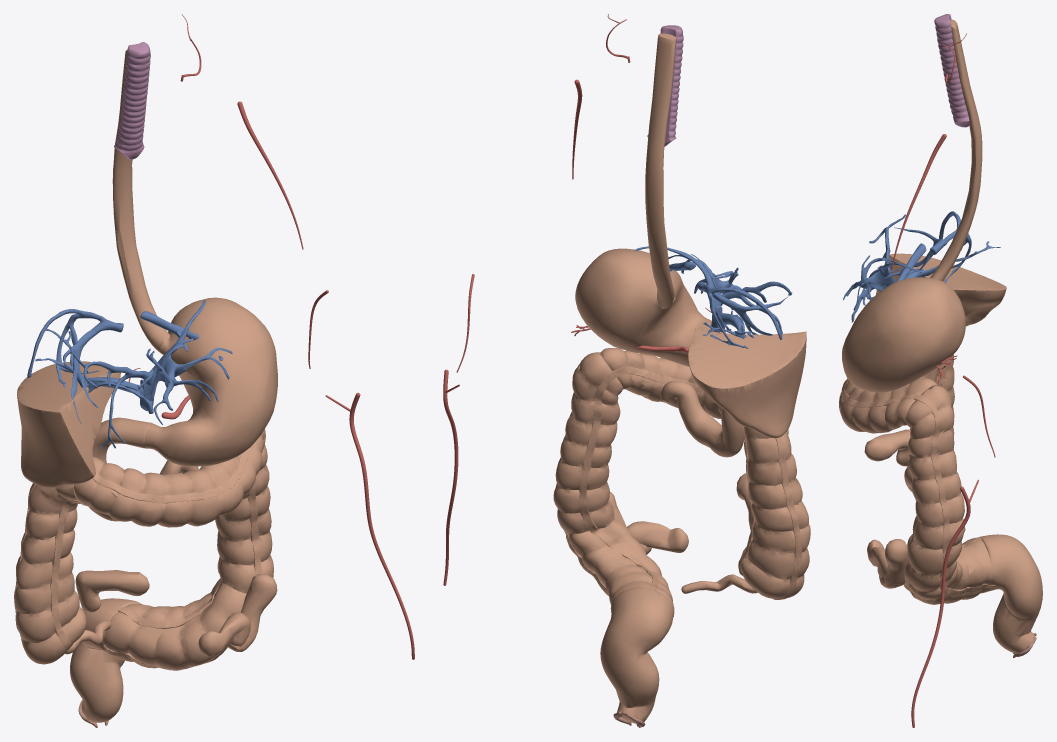
File: other-3.glb
3 views of the same model, side by side, from view 1: azimuth 30°, elevation 25°; view 2: azimuth 150°, elevation 25°; view 3: azimuth 270°, elevation 25° (orthographic). The views are drawn at different scales.
Parts seen in each view (by area): view 1: FJ2564, FJ2567, FJ2409, FJ2566, FJ2572, FJ2571, FJ2563, FJ2404, FJ2541, FJ2568, FJ2416, FJ2574 (+7 smaller); view 2: FJ2567, FJ2564, FJ2409, FJ2566, FJ2571, FJ2563, FJ2573, FJ2569, FJ2572, FJ2404, FJ2416, FJ2570 (+4 smaller); view 3: FJ2567, FJ2564, FJ2571, FJ2563, FJ2572, FJ2409, FJ2570, FJ2541, FJ2404, FJ2574, FJ2258, FJ2575 (+6 smaller).
Boxes of the visible parts, box(x1,y1,x2,y2) form: FJ2564: box(144, 297, 277, 466); FJ2567: box(103, 429, 273, 669); FJ2409: box(17, 361, 120, 487); FJ2566: box(14, 484, 86, 664); FJ2572: box(74, 430, 264, 527); FJ2571: box(70, 598, 142, 722); FJ2563: box(112, 50, 169, 353); FJ2404: box(69, 300, 232, 449); FJ2541: box(114, 42, 150, 159); FJ2568: box(50, 483, 262, 670); FJ2416: box(27, 309, 123, 423); FJ2574: box(75, 570, 149, 612); FJ2567: box(553, 352, 674, 617); FJ2564: box(575, 248, 725, 366); FJ2409: box(688, 328, 806, 437); FJ2566: box(741, 426, 810, 599); FJ2571: box(600, 587, 673, 723); FJ2563: box(645, 33, 676, 308); FJ2573: box(660, 381, 744, 457); FJ2569: box(579, 366, 755, 590); FJ2572: box(600, 348, 721, 418); FJ2404: box(635, 246, 792, 333); FJ2416: box(697, 281, 789, 348); FJ2570: box(555, 352, 802, 599); FJ2567: box(903, 385, 992, 604); FJ2564: box(842, 277, 965, 392); FJ2571: box(978, 534, 1042, 653); FJ2563: box(930, 19, 982, 281); FJ2572: box(839, 378, 937, 433); FJ2409: box(876, 253, 1006, 326); FJ2570: box(840, 378, 996, 595); FJ2541: box(934, 14, 969, 127); FJ2404: box(843, 214, 922, 322); FJ2574: box(864, 429, 910, 466); FJ2258: box(911, 486, 970, 727); FJ2575: box(884, 539, 907, 588).
Size of the model in its own units: 0.3705 by 0.65 by 0.1857.
